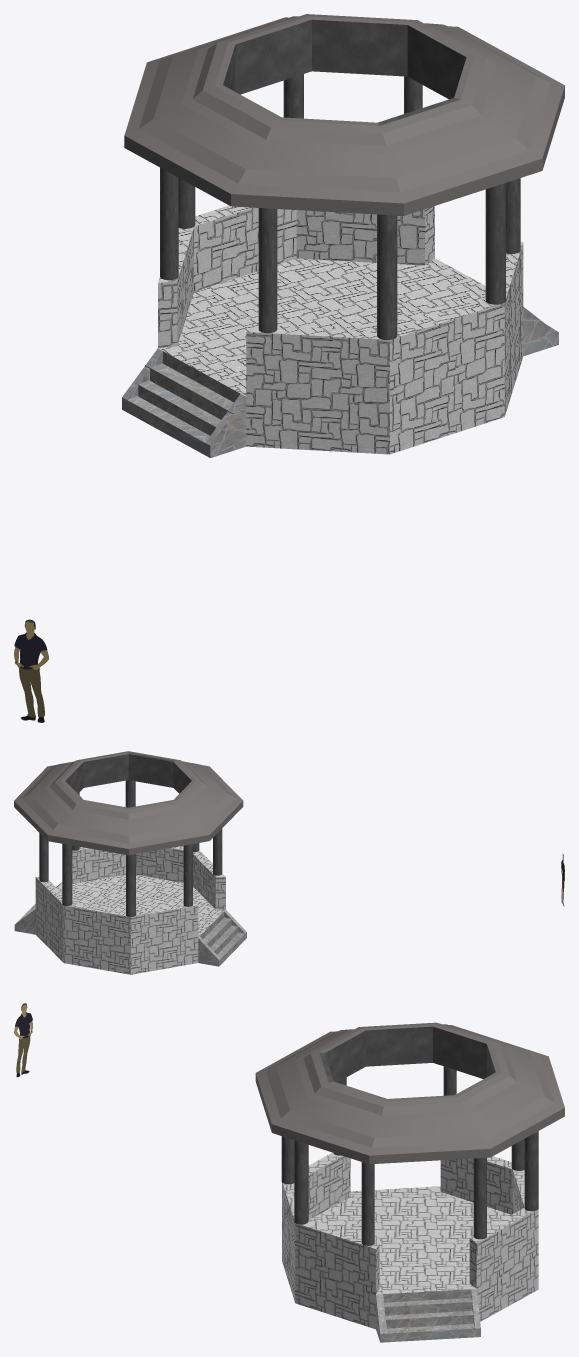
The model's file is Pergola.fbx.
3 views of the same model, one above another, from view 1: azimuth 30°, elevation 25°; view 2: azimuth 150°, elevation 25°; view 3: azimuth 270°, elevation 25° (orthographic). The views are drawn at different scales.
Parts seen in each view (by area): view 1: Componente1, Chris1; view 2: Componente1; view 3: Componente1, Chris1.
Part boxes in pixels (box(x1,y1,x2,y2)): Componente1: box(122, 14, 564, 457); Chris1: box(14, 619, 48, 722); Componente1: box(14, 751, 246, 974); Componente1: box(255, 1022, 564, 1342); Chris1: box(14, 1003, 32, 1077).
Size of the model in its own units: 14.37 by 5.28 by 12.33.
